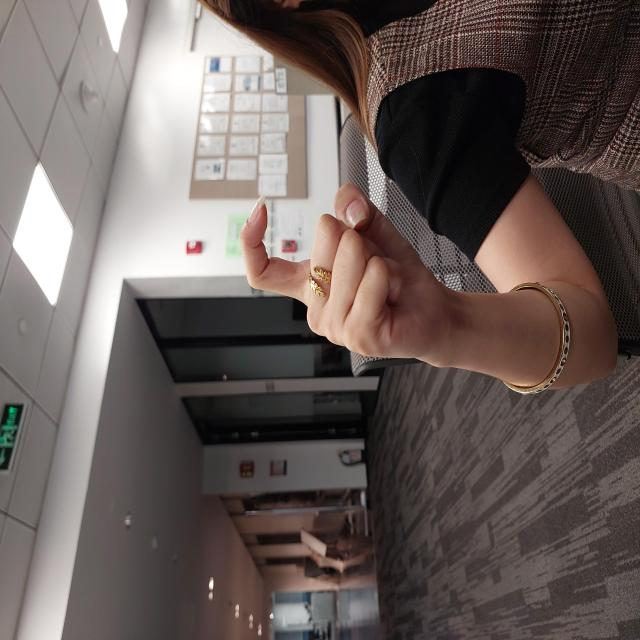X: (277, 238, 462, 447)
